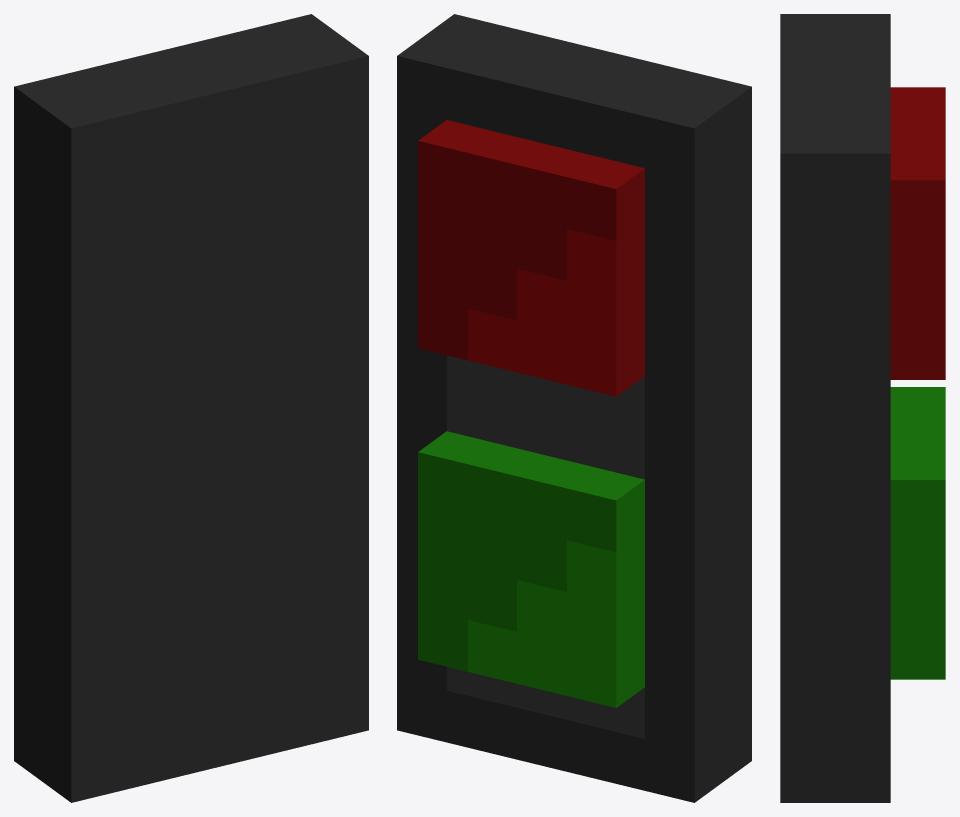
The model's file is garage_button.fbx.
3 views of the same model, side by side, from view 1: azimuth 30°, elevation 25°; view 2: azimuth 150°, elevation 25°; view 3: azimuth 270°, elevation 25° (orthographic). The views are drawn at different scales.
Parts seen in each view (by area): view 1: cube; view 2: cube, cube_1, cube_2; view 3: cube, cube_2, cube_1.
Boxes of the visible parts, x1,y1,x2,y2 form: cube: (14,14,368,802); cube: (397,14,751,802); cube_1: (418,120,644,396); cube_2: (418,431,644,707); cube: (780,14,890,802); cube_2: (890,387,945,679); cube_1: (890,87,945,379).
Size of the model in its own units: 18.75 by 40.62 by 9.38.
1 material, 1 textured.
